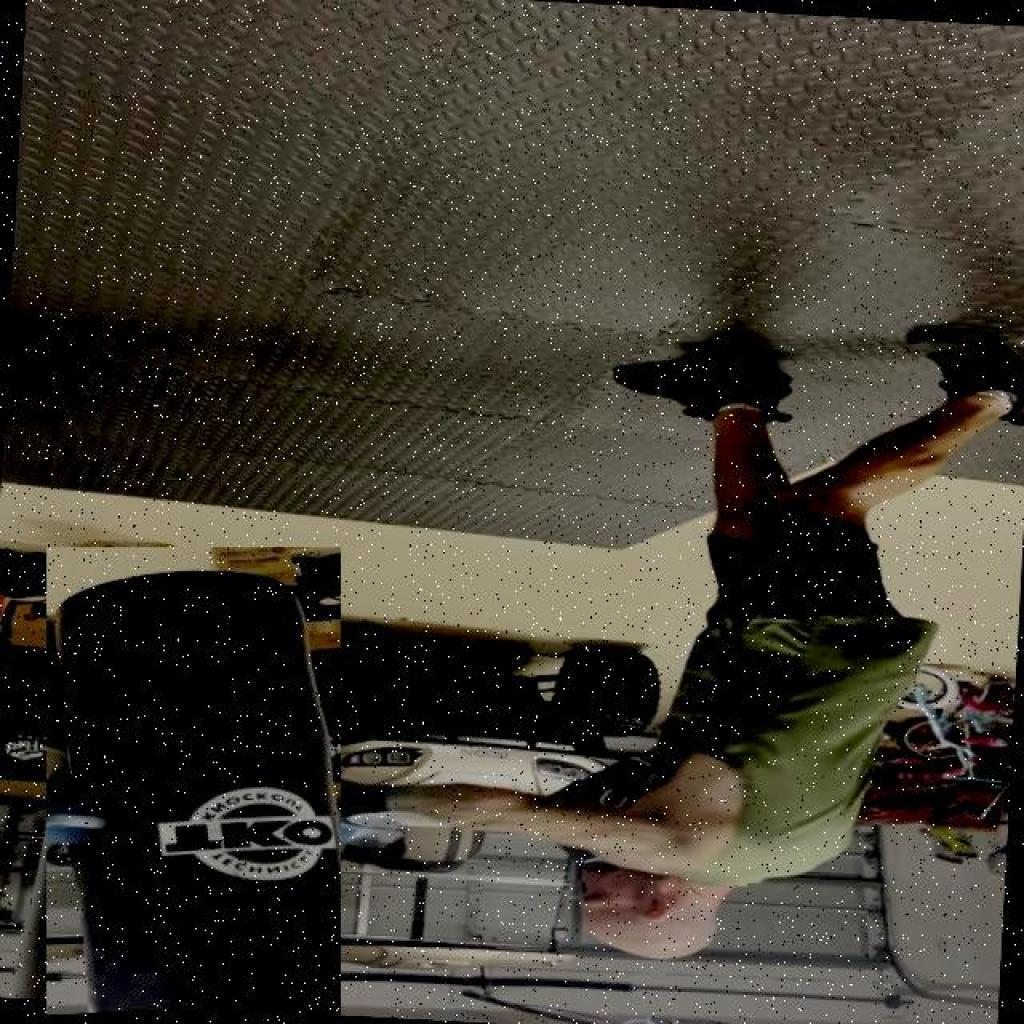bag: (46, 547, 341, 1014)
cross: (244, 716, 890, 1002)
